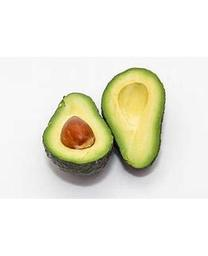avocado: (101, 67, 167, 170), (42, 92, 115, 175)
